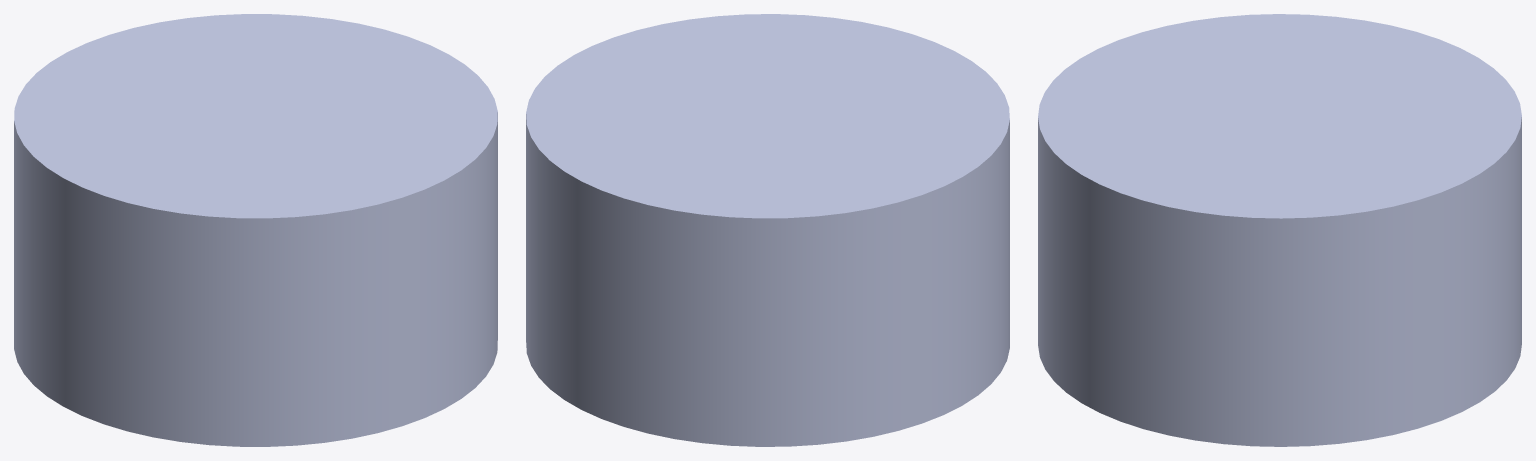
The model's file is right_omni_link.dae.
The picture shows the model from 3 angles, left to right: view 1: azimuth 30°, elevation 25°; view 2: azimuth 150°, elevation 25°; view 3: azimuth 270°, elevation 25°; orthographic projection.
Visible parts, largest first — view 1: node0; view 2: node0; view 3: node0.
Part boxes in pixels (<box>): node0: <box>14,14,497,446</box>; node0: <box>526,14,1009,446</box>; node0: <box>1038,14,1521,446</box>.
Bounding box in the file's own units: 0.048 × 0.025 × 0.048.
